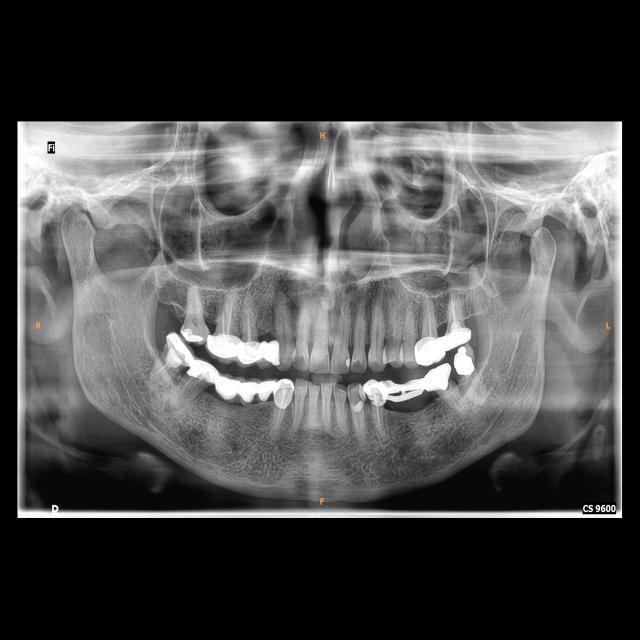dolgu: (180, 324, 202, 348), (376, 346, 391, 372), (397, 344, 408, 370), (344, 358, 354, 370)
kanal-tedavisi: (149, 346, 182, 388), (173, 370, 211, 403), (214, 298, 237, 338), (420, 300, 440, 342), (368, 400, 387, 435), (276, 391, 289, 436), (449, 293, 464, 330), (243, 304, 255, 344)
kaplama: (155, 328, 199, 376), (203, 329, 244, 361), (417, 363, 453, 395), (254, 337, 285, 369), (414, 335, 444, 367), (188, 357, 220, 386), (439, 323, 473, 350), (361, 378, 390, 406), (213, 375, 241, 402), (452, 346, 476, 376), (238, 338, 262, 366), (274, 376, 294, 403), (238, 380, 258, 405), (256, 381, 276, 405)
kopru: (380, 375, 430, 402)
